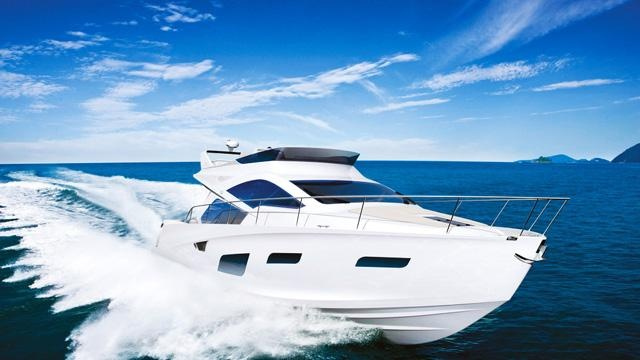yacht: (150, 140, 565, 346)
